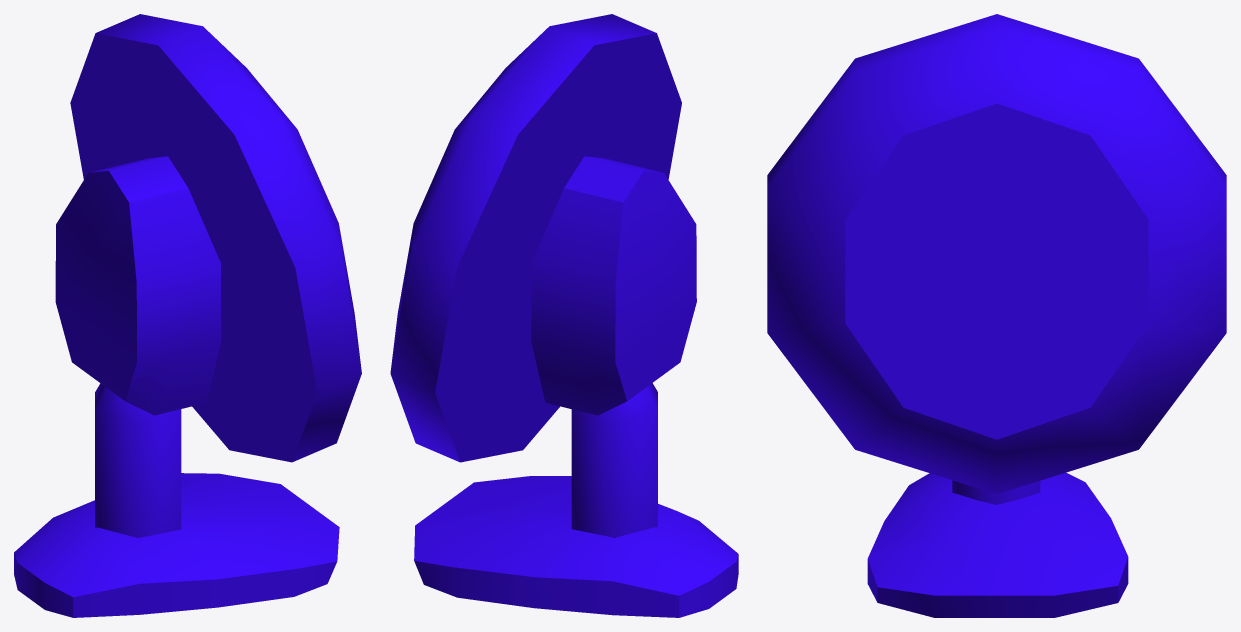
File: office_pack_deskFan_1_meshCollider.fbx
3 views of the same model, side by side, from view 1: azimuth 30°, elevation 25°; view 2: azimuth 150°, elevation 25°; view 3: azimuth 270°, elevation 25° (orthographic). The views are drawn at different scales.
Parts seen in each view (by area): view 1: office_pack_deskFan_1_fanHead_1_meshCollider, office_pack_deskFan_1_meshCollider, office_pack_deskFan_1_turningMechanic_1_meshCollider; view 2: office_pack_deskFan_1_fanHead_1_meshCollider, office_pack_deskFan_1_meshCollider, office_pack_deskFan_1_turningMechanic_1_meshCollider; view 3: office_pack_deskFan_1_fanHead_1_meshCollider, office_pack_deskFan_1_meshCollider.
Part boxes in pixels (left/top/right/bottom): office_pack_deskFan_1_fanHead_1_meshCollider: left=70, top=14, right=361, bottom=462; office_pack_deskFan_1_meshCollider: left=14, top=383, right=339, bottom=617; office_pack_deskFan_1_turningMechanic_1_meshCollider: left=55, top=156, right=221, bottom=415; office_pack_deskFan_1_fanHead_1_meshCollider: left=390, top=14, right=681, bottom=462; office_pack_deskFan_1_meshCollider: left=414, top=383, right=738, bottom=617; office_pack_deskFan_1_turningMechanic_1_meshCollider: left=531, top=156, right=696, bottom=415; office_pack_deskFan_1_fanHead_1_meshCollider: left=767, top=14, right=1226, bottom=493; office_pack_deskFan_1_meshCollider: left=867, top=472, right=1128, bottom=617.
Size of the model in its own units: 23.98 by 43.69 by 33.54.
